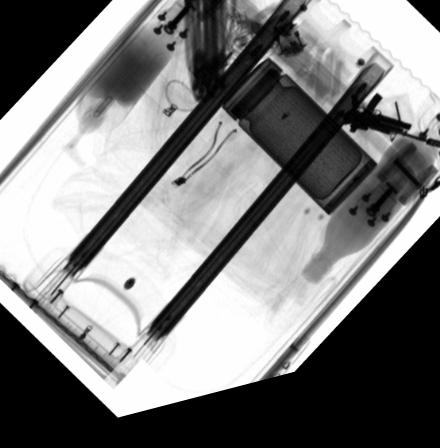Gun: (341, 112, 440, 171)
